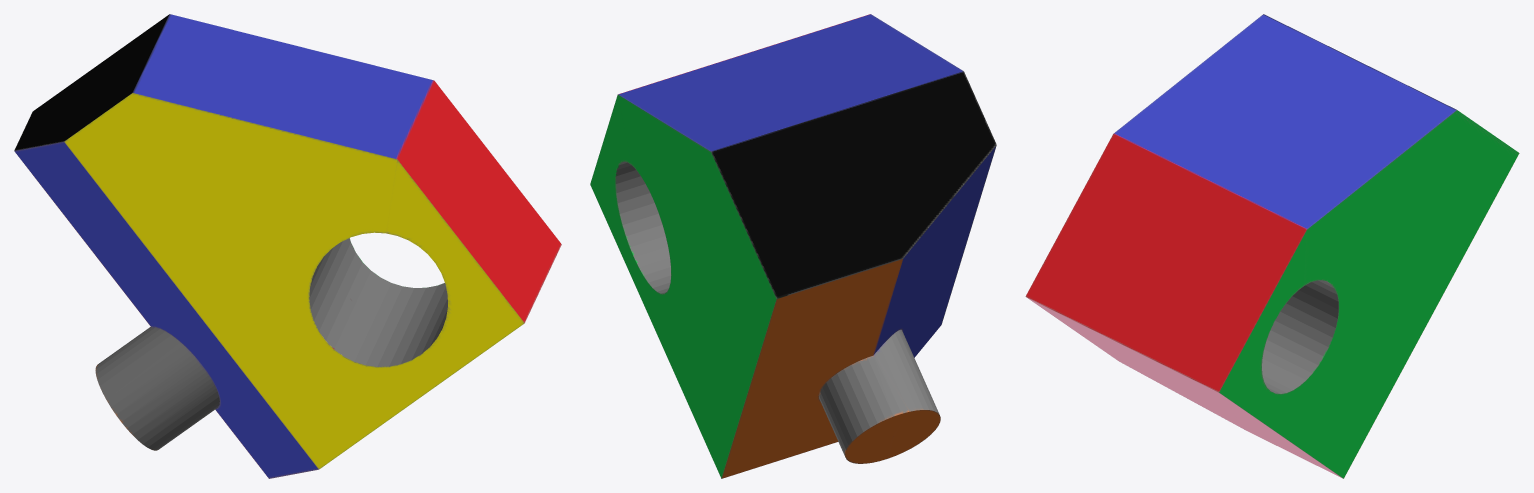
File: updated_ortho.fbx
3 views of the same model, side by side, from view 1: azimuth 30°, elevation 25°; view 2: azimuth 150°, elevation 25°; view 3: azimuth 270°, elevation 25° (orthographic). The views are drawn at different scales.
Visible parts, largest first — view 1: node_id3; view 2: node_id3; view 3: node_id3.
Part boxes in pixels (x1,y1,x2,y2): node_id3: (14,14,561,478); node_id3: (590,14,996,478); node_id3: (1025,14,1519,478).
Bounding box in the file's own units: 0.6403 × 0.5766 × 0.6819.
1 material, 1 textured.
